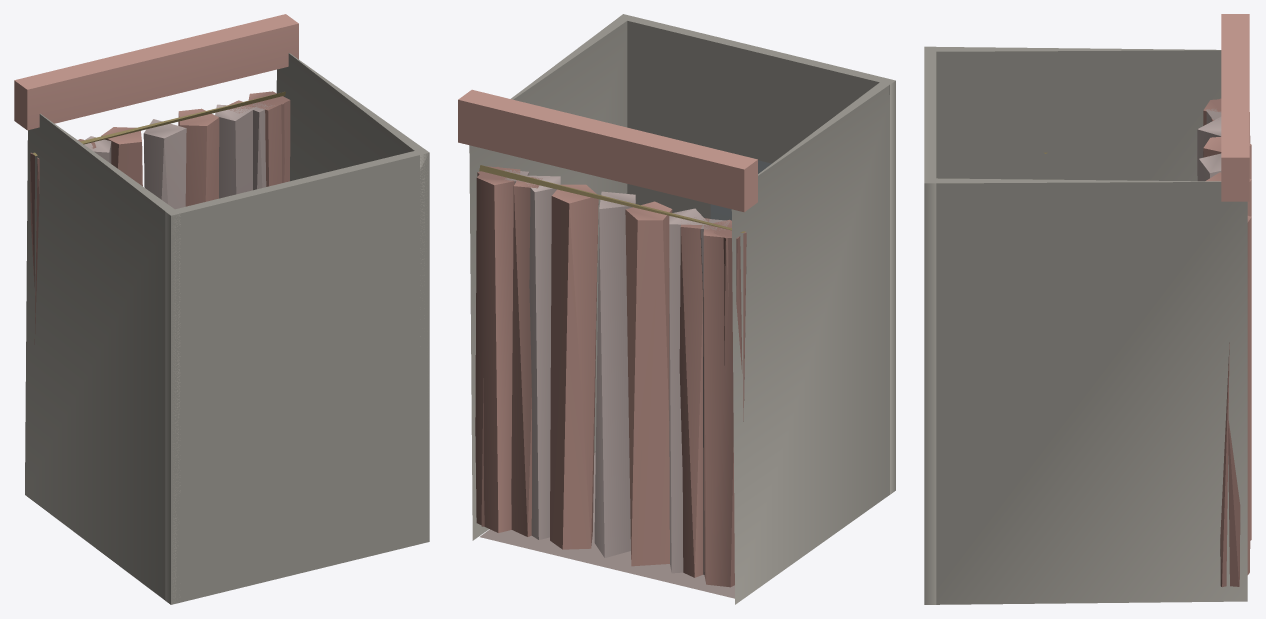
Rendered from wear_fitting_room_low.glb.
3 renders of one model, left to right at view 1: azimuth 30°, elevation 25°; view 2: azimuth 150°, elevation 25°; view 3: azimuth 270°, elevation 25°, orthographic. The views are drawn at different scales.
Parts seen in each view (by area): view 1: wear.fitting_room, curtain_closed, curtain_open; view 2: wear.fitting_room, curtain_closed, curtain_open; view 3: wear.fitting_room, curtain_closed, curtain_open.
Boxes of the visible parts, x1=… form: wear.fitting_room: x1=14, y1=14, x2=429, y2=604; curtain_closed: x1=30, y1=91, x2=290, y2=287; curtain_open: x1=34, y1=93, x2=284, y2=344; wear.fitting_room: x1=458, y1=14, x2=895, y2=604; curtain_closed: x1=475, y1=166, x2=742, y2=587; curtain_open: x1=477, y1=166, x2=746, y2=577; wear.fitting_room: x1=924, y1=14, x2=1249, y2=604; curtain_closed: x1=1197, y1=99, x2=1251, y2=586; curtain_open: x1=1206, y1=98, x2=1229, y2=587.
Size of the model in its own units: 1.68 by 2.46 by 1.62.
